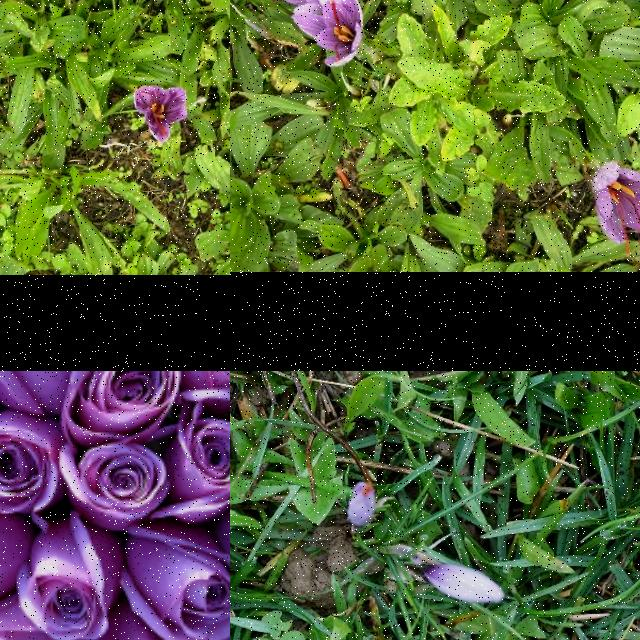flower: (595, 163, 640, 255), (418, 562, 507, 604), (134, 85, 190, 143), (349, 483, 377, 529)
overlap: (276, 0, 362, 68)
